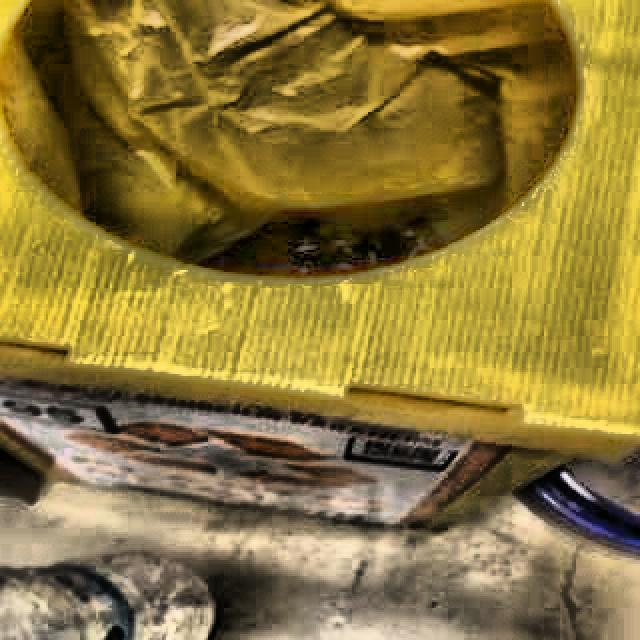plastic: (0, 554, 213, 640)
